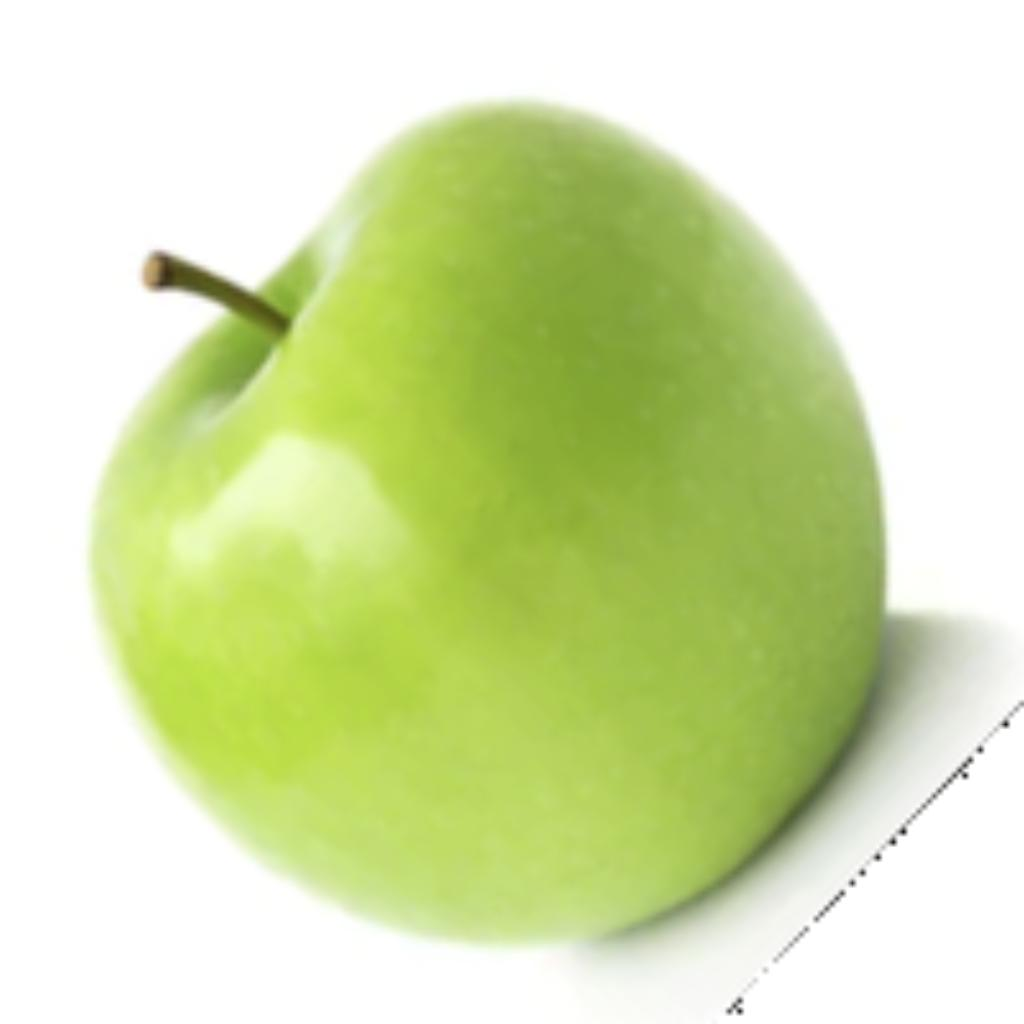apple: (77, 87, 1019, 983)
